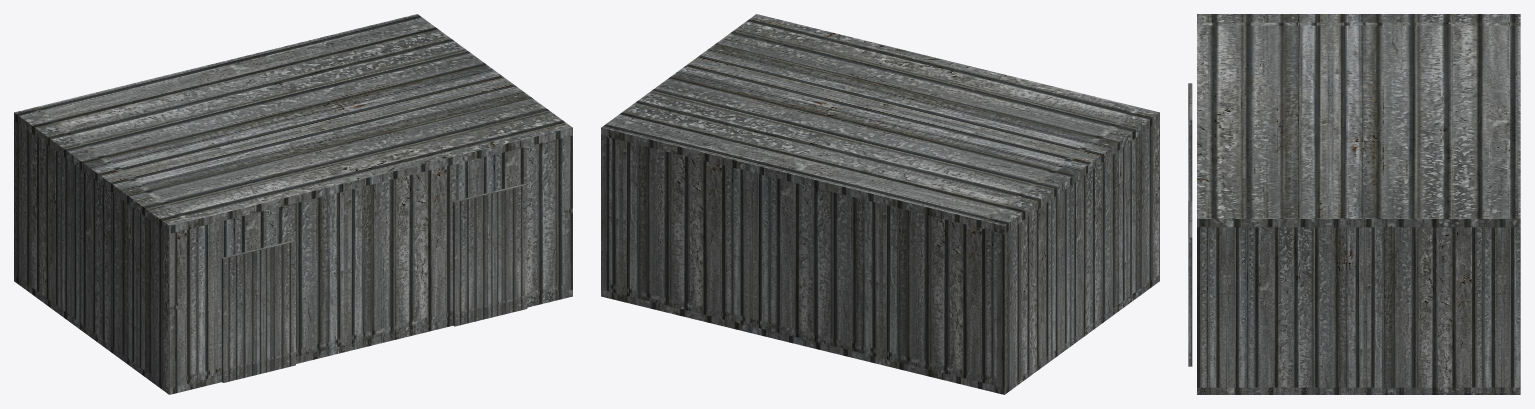
The model's file is warehouse.glb.
3 renders of one model, left to right at view 1: azimuth 30°, elevation 25°; view 2: azimuth 150°, elevation 25°; view 3: azimuth 270°, elevation 25°, orthographic. The views are drawn at different scales.
Visible parts, largest first — view 1: Warehouse; view 2: Warehouse; view 3: Warehouse.
Boxes of the visible parts, <box> form: Warehouse: <box>14,14,572,394</box>; Warehouse: <box>601,14,1159,394</box>; Warehouse: <box>1188,14,1520,394</box>.
Size of the model in its own units: 15 by 6 by 10.27.
Materials: 1 (1 with a texture image).
